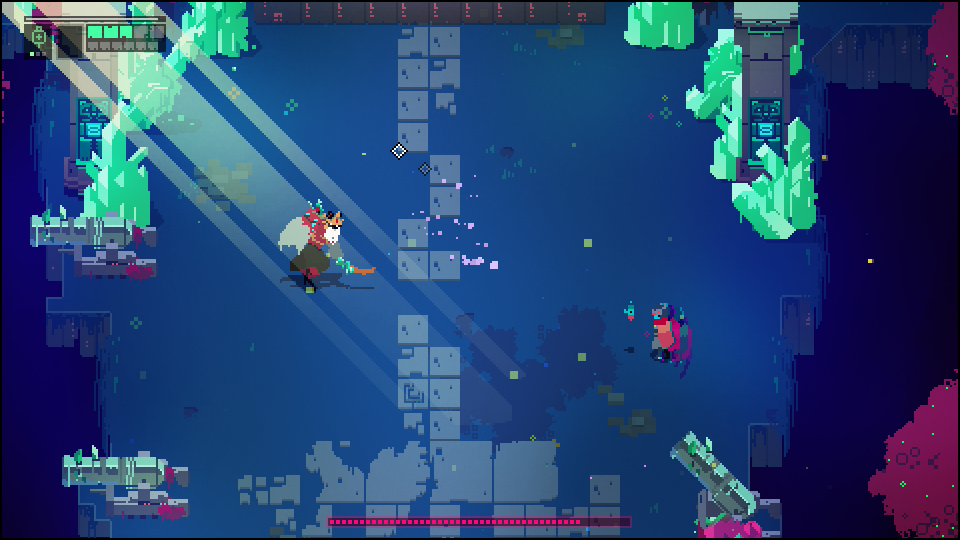hanged_man: (274, 197, 378, 290)
player: (646, 304, 676, 358)
